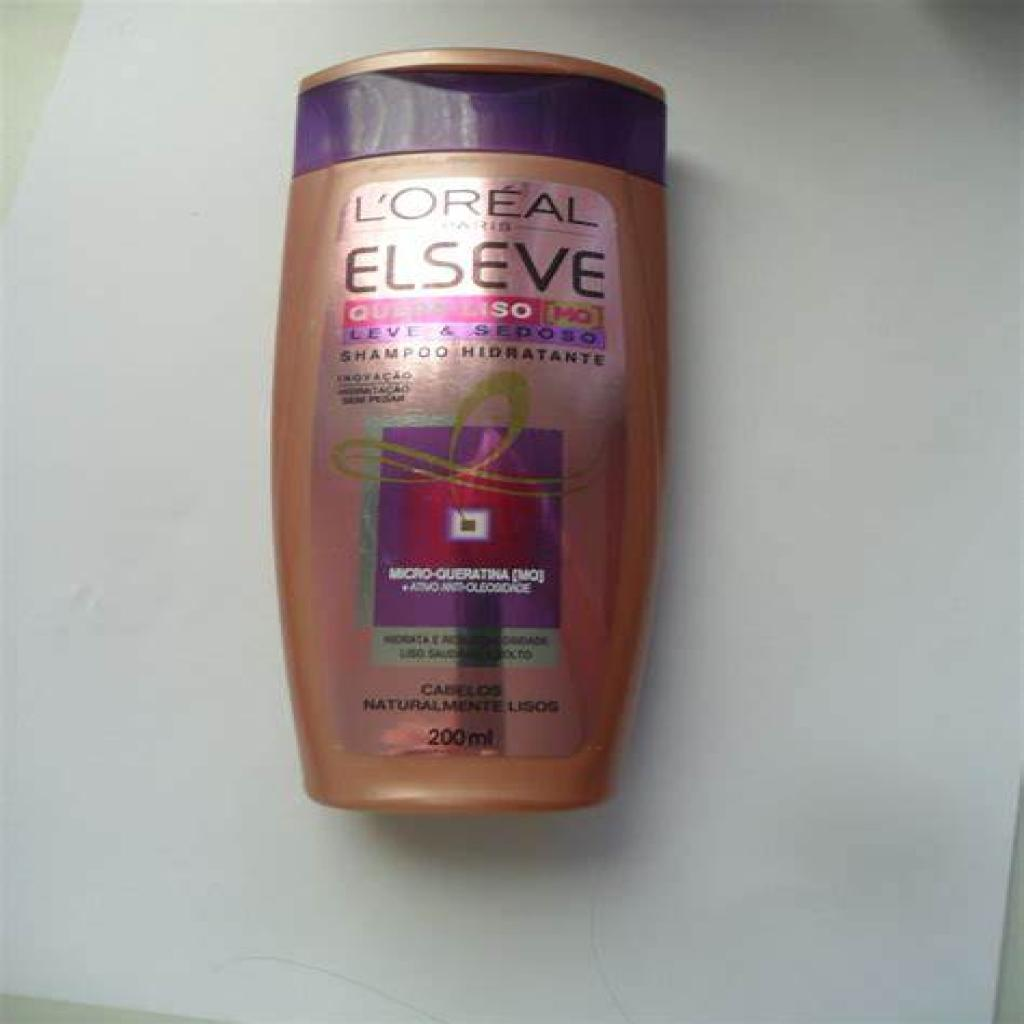organico: (262, 47, 682, 825)
